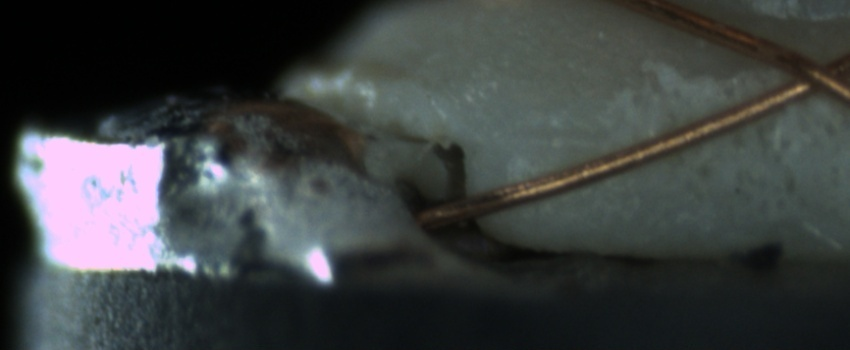CL: (760, 38, 847, 107)
DL: (505, 109, 625, 167)
